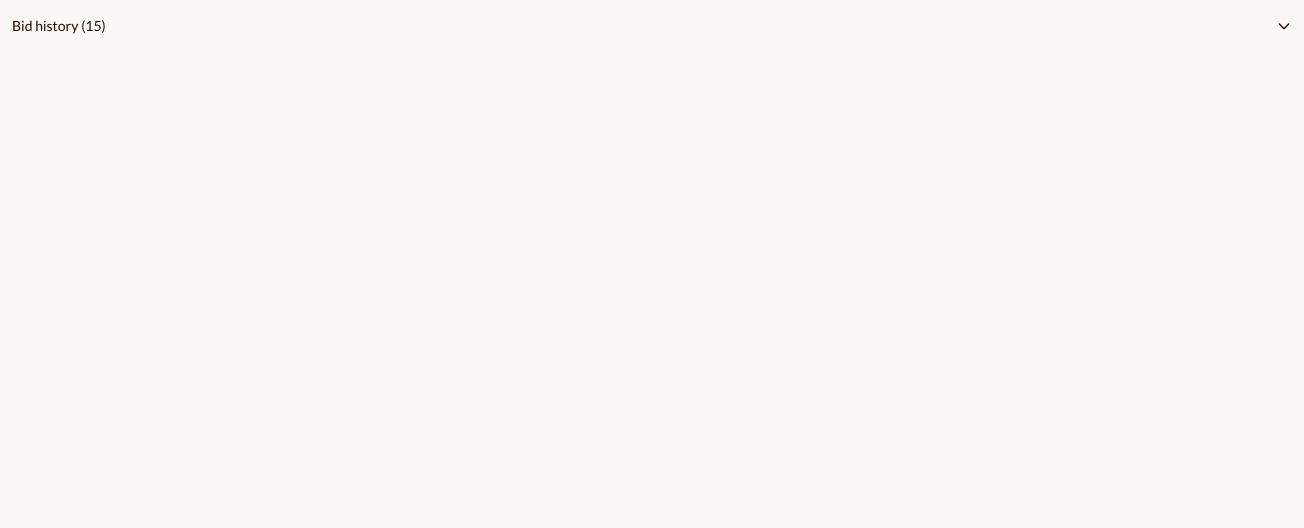
Test case: BidHistory › show more › shows "Pokaż więcej" button when more than 10 bids
Click the button "Bid history (15)". click: click(45, 26)
box: [12,16,1292,36]
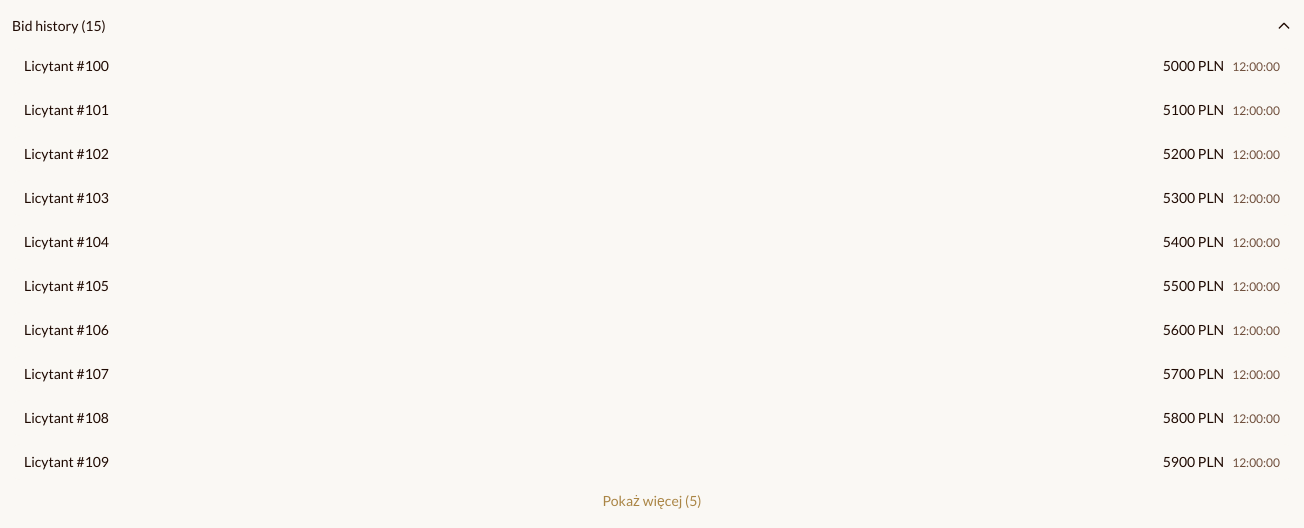
Now the button "Pokaż więcej (5)" is shown, box [12,491,1292,511]
